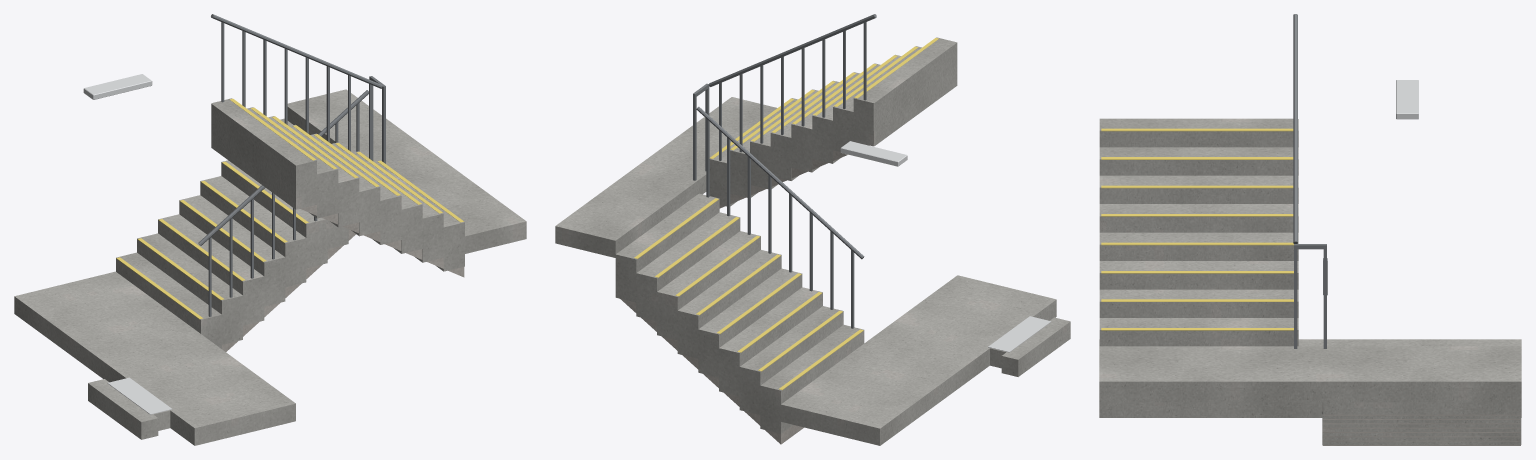
The model's file is stair_storey.glb.
The picture shows the model from 3 angles, left to right: view 1: azimuth 30°, elevation 25°; view 2: azimuth 150°, elevation 25°; view 3: azimuth 270°, elevation 25°; orthographic projection. The views are drawn at different scales.
Parts seen in each view (by area): view 1: stair_storey_conc_s, stair_storey_steel_d, stair_storey_paint_y, stair_storey_alu, stair_storey_concrete; view 2: stair_storey_conc_s, stair_storey_steel_d, stair_storey_paint_y, stair_storey_alu, stair_storey_concrete; view 3: stair_storey_conc_s, stair_storey_paint_y, stair_storey_concrete, stair_storey_steel_d, stair_storey_alu.
Boxes of the visible parts, box(x1,y1,x2,y2) form: stair_storey_conc_s: box(14, 89, 526, 445); stair_storey_steel_d: box(198, 14, 385, 316); stair_storey_paint_y: box(116, 98, 464, 319); stair_storey_alu: box(83, 74, 172, 414); stair_storey_concrete: box(222, 204, 464, 351); stair_storey_conc_s: box(555, 37, 1070, 445); stair_storey_steel_d: box(693, 14, 876, 328); stair_storey_paint_y: box(634, 38, 938, 390); stair_storey_alu: box(840, 141, 1051, 352); stair_storey_concrete: box(620, 131, 874, 444); stair_storey_conc_s: box(1099, 118, 1521, 444); stair_storey_paint_y: box(1101, 128, 1293, 330); stair_storey_concrete: box(1322, 402, 1520, 445); stair_storey_steel_d: box(1293, 14, 1327, 348); stair_storey_alu: box(1396, 80, 1418, 119).
Bounding box in the file's own units: 4.33 × 4.18 × 3.7.
Materials: 6 (2 with a texture image).
